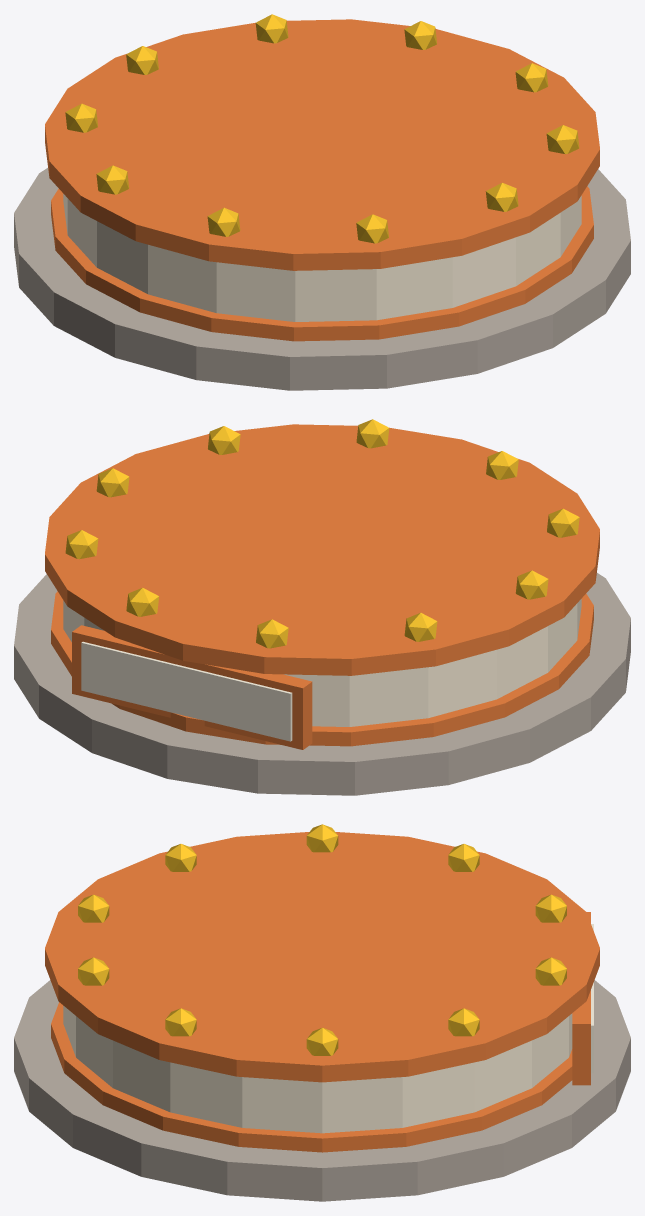
File: EggStand.fbx
3 renders of one model, top to bottom at view 1: azimuth 30°, elevation 25°; view 2: azimuth 150°, elevation 25°; view 3: azimuth 270°, elevation 25°, orthographic.
Parts seen in each view (by area): view 1: StandTrim, Stone, StandBody, StandGold; view 2: StandTrim, Stone, StandBody, EggSign, StandGold; view 3: StandTrim, Stone, StandBody, StandGold.
Boxes of the visible parts, bbox=[...] form: StandTrim: bbox=[45, 19, 599, 341]; Stone: bbox=[14, 168, 630, 390]; StandBody: bbox=[63, 194, 581, 321]; StandGold: bbox=[65, 14, 579, 243]; StandTrim: bbox=[45, 424, 599, 749]; Stone: bbox=[14, 573, 630, 795]; StandBody: bbox=[63, 599, 581, 726]; EggSign: bbox=[81, 641, 292, 741]; StandGold: bbox=[65, 419, 579, 648]; StandTrim: bbox=[45, 832, 599, 1152]; Stone: bbox=[14, 980, 630, 1201]; StandBody: bbox=[63, 1006, 572, 1133]; StandGold: bbox=[78, 824, 566, 1055].
Bounding box in the file's own units: 2 × 0.52 × 2.
